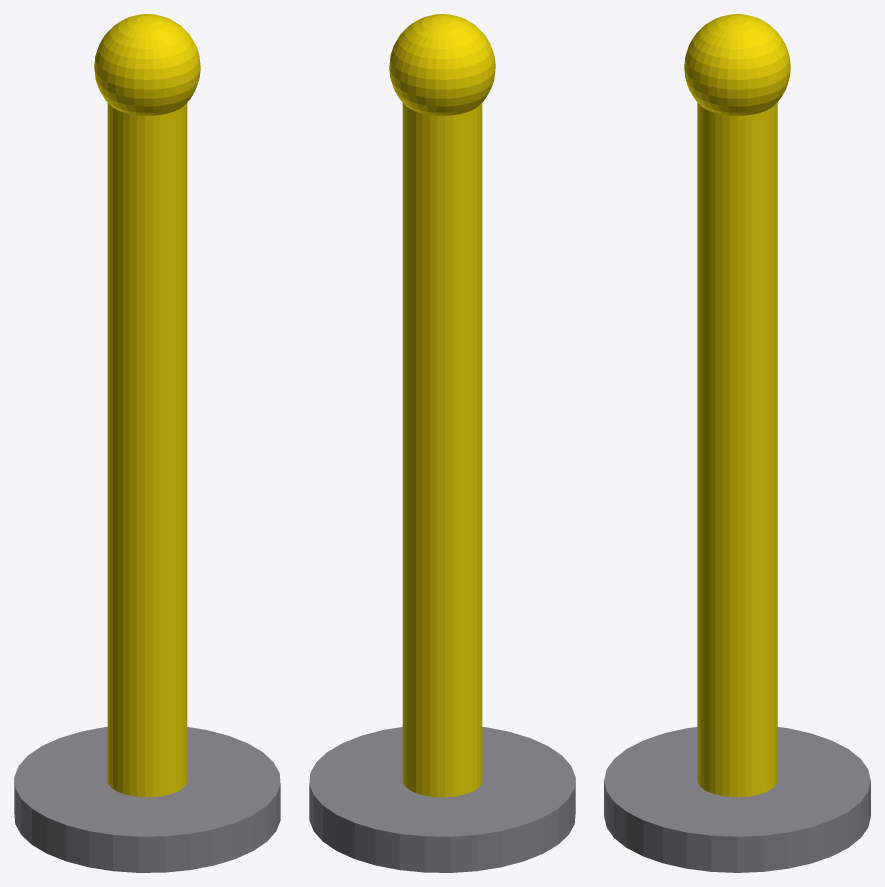
The model's file is safety_fence_post.glb.
3 views of the same model, side by side, from view 1: azimuth 30°, elevation 25°; view 2: azimuth 150°, elevation 25°; view 3: azimuth 270°, elevation 25° (orthographic).
Visible parts, largest first — view 1: Cylinder, Cylinder.001, Sphere; view 2: Cylinder, Cylinder.001, Sphere; view 3: Cylinder, Cylinder.001, Sphere.
Part boxes in pixels (x1,y1,x2,y2): Cylinder: (107, 103, 187, 797); Cylinder.001: (14, 727, 280, 872); Sphere: (94, 14, 200, 115); Cylinder: (402, 103, 482, 797); Cylinder.001: (309, 727, 575, 872); Sphere: (389, 14, 495, 115); Cylinder: (697, 102, 777, 797); Cylinder.001: (604, 727, 870, 872); Sphere: (684, 14, 790, 115).
Size of the model in its own units: 1 by 3.3 by 1.
